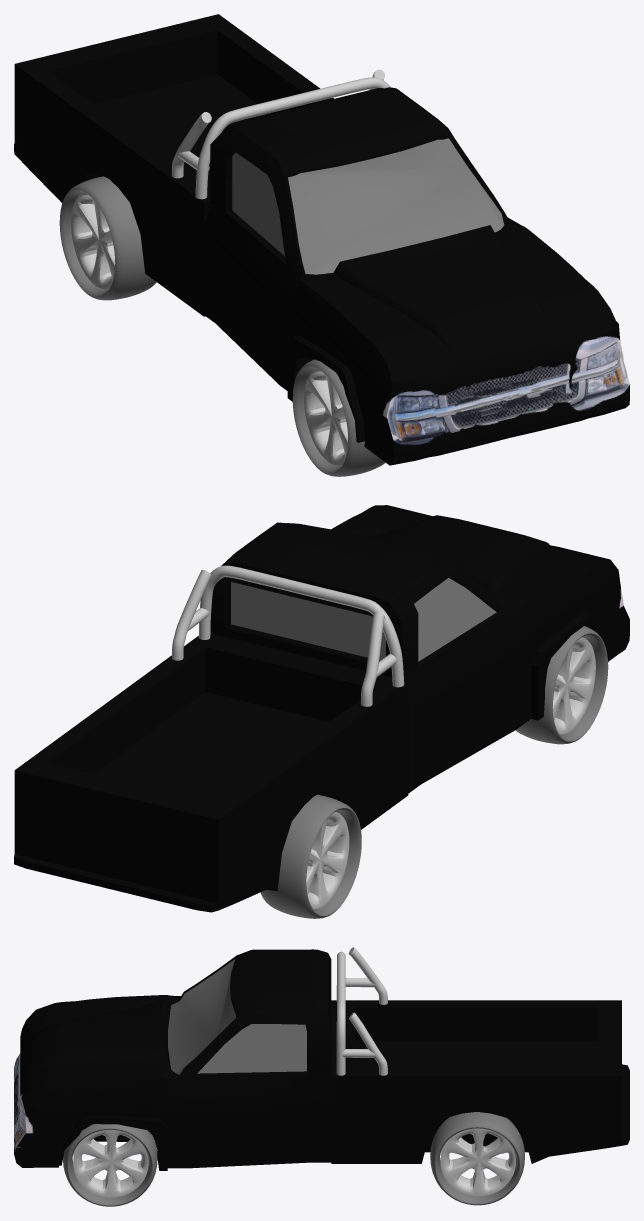
The model's file is Camioneta_lista_fbx.fbx.
The picture shows the model from 3 angles, top to bottom: view 1: azimuth 30°, elevation 25°; view 2: azimuth 150°, elevation 25°; view 3: azimuth 270°, elevation 25°; orthographic projection. The views are drawn at different scales.
Visible parts, largest first — view 1: Carroceria, Llanta3, Llanta2; view 2: Carroceria, Llanta3, Llanta2; view 3: Carroceria, Llanta4, Llanta1.
Part boxes in pixels (box(x1,y1,x2,y2)): Carroceria: box(14, 14, 629, 465); Llanta3: box(59, 176, 156, 300); Llanta2: box(292, 359, 385, 476); Carroceria: box(14, 505, 629, 912); Llanta3: box(260, 794, 361, 918); Llanta2: box(515, 626, 608, 744); Carroceria: box(14, 947, 629, 1170); Llanta4: box(430, 1112, 524, 1205); Llanta1: box(63, 1124, 157, 1206).
Size of the model in its own units: 771 by 682 by 2067.
